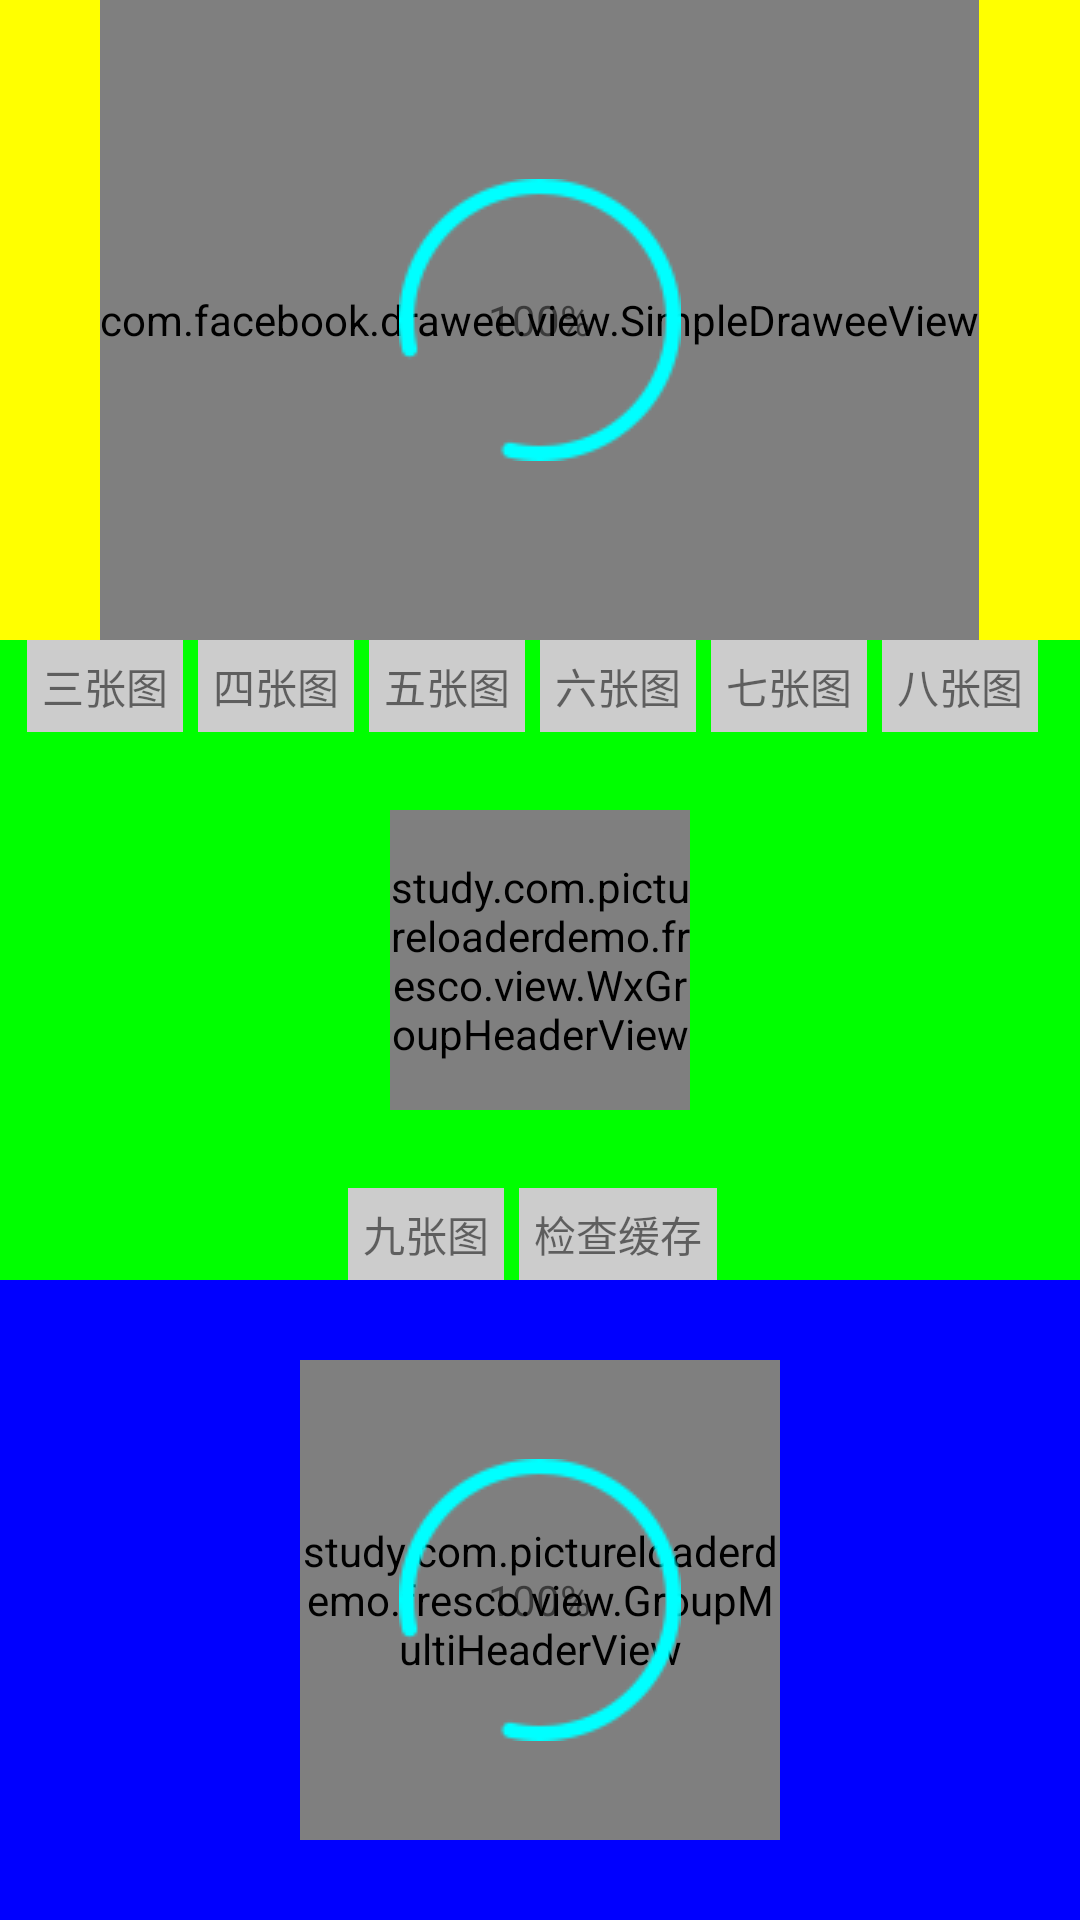

Where icons sit on this 1080w x 1920h app screen, as bbox=(x1, y1, x2, y2):
progressbar: bbox=(399, 179, 681, 461), bbox=(399, 1459, 681, 1741)
